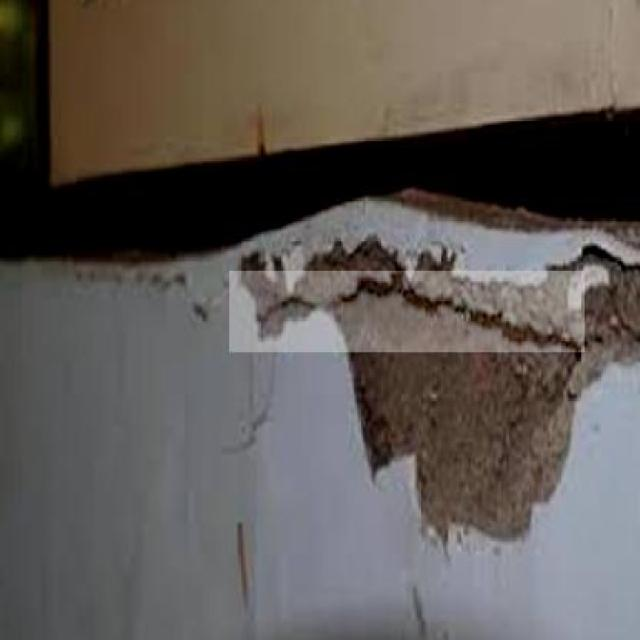Crack: (233, 266, 598, 358)
